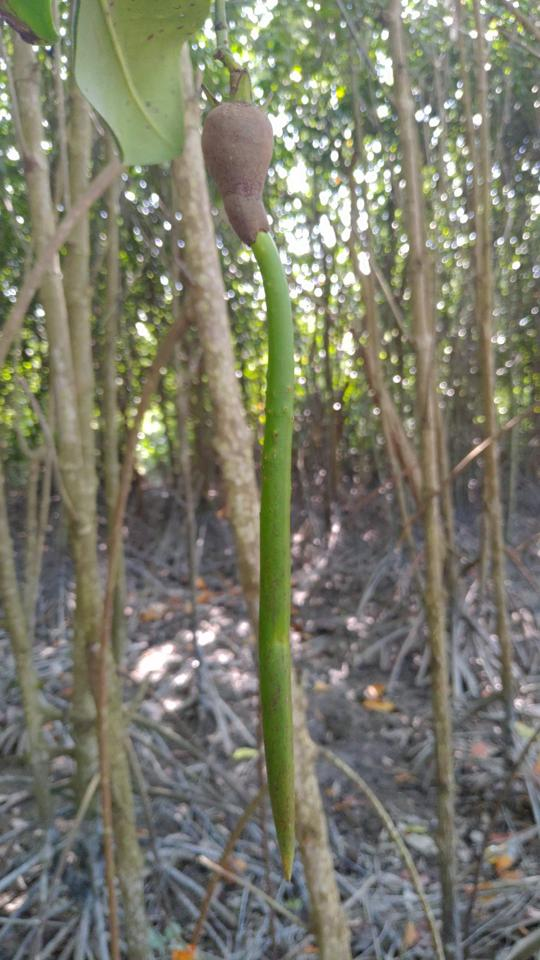mentah: (178, 43, 320, 893)
